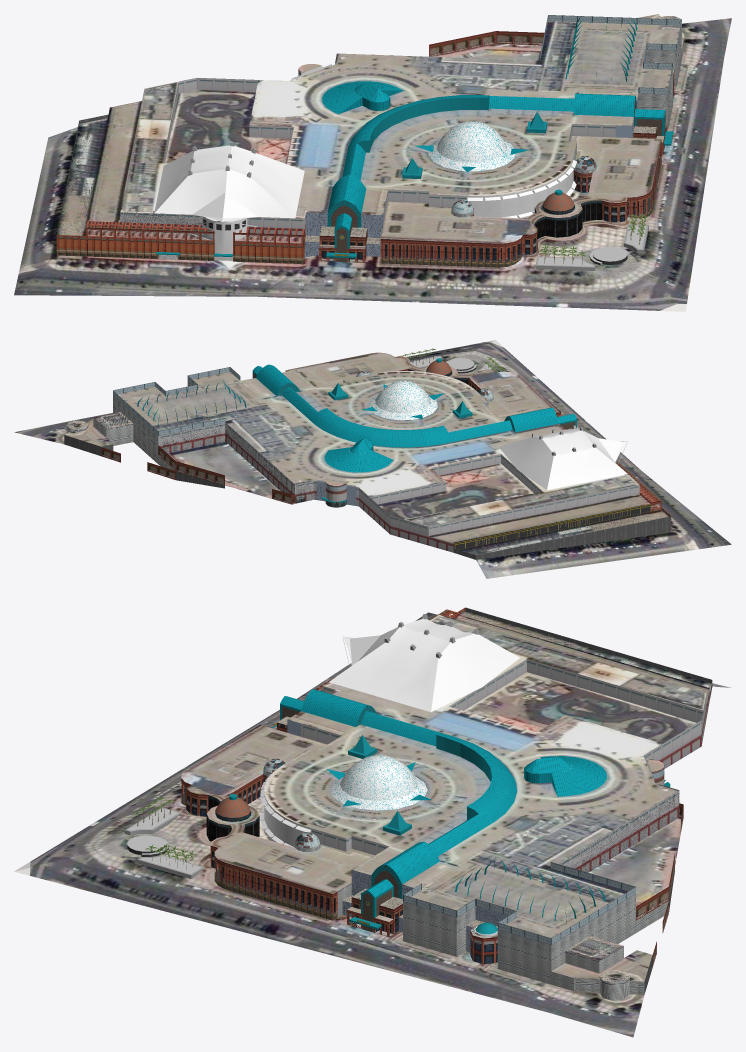
File: Colombo_exterior.dae
3 views of the same model, one above another, from view 1: azimuth 30°, elevation 25°; view 2: azimuth 150°, elevation 25°; view 3: azimuth 270°, elevation 25° (orthographic). The views are drawn at different scales.
Parts seen in each view (by area): view 1: SketchUp (×29), cobertura (×8), Component_9, Component_1 (×2), Component_2, Component_6; view 2: SketchUp (×19), cobertura (×6), Component_9, Component_1, Component_2, Component_6; view 3: SketchUp (×19), cobertura (×7), Component_9, Component_1 (×2), Component_2, Component_6.
Boxes of the visible parts, x1=… form: SketchUp (×29): x1=14, y1=15, x2=731, y2=311; cobertura (×8): x1=120, y1=21, x2=680, y2=240; Component_9: x1=154, y1=145, x2=304, y2=221; Component_1 (×2): x1=342, y1=95, x2=574, y2=180; Component_2: x1=428, y1=121, x2=515, y2=171; Component_6: x1=322, y1=81, x2=403, y2=114; SketchUp (×19): x1=14, y1=340, x2=731, y2=578; cobertura (×6): x1=118, y1=355, x2=639, y2=526; Component_9: x1=499, y1=428, x2=627, y2=490; Component_1: x1=282, y1=386, x2=512, y2=447; Component_2: x1=368, y1=380, x2=437, y2=420; Component_6: x1=324, y1=438, x2=392, y2=472; SketchUp (×19): x1=14, y1=607, x2=730, y2=1037; cobertura (×7): x1=186, y1=614, x2=706, y2=938; Component_9: x1=329, y1=618, x2=519, y2=711; Component_1 (×2): x1=361, y1=711, x2=517, y2=855; Component_2: x1=330, y1=755, x2=427, y2=810; Component_6: x1=524, y1=756, x2=606, y2=796.
Size of the model in its own units: 20180 by 13988 by 2115.
